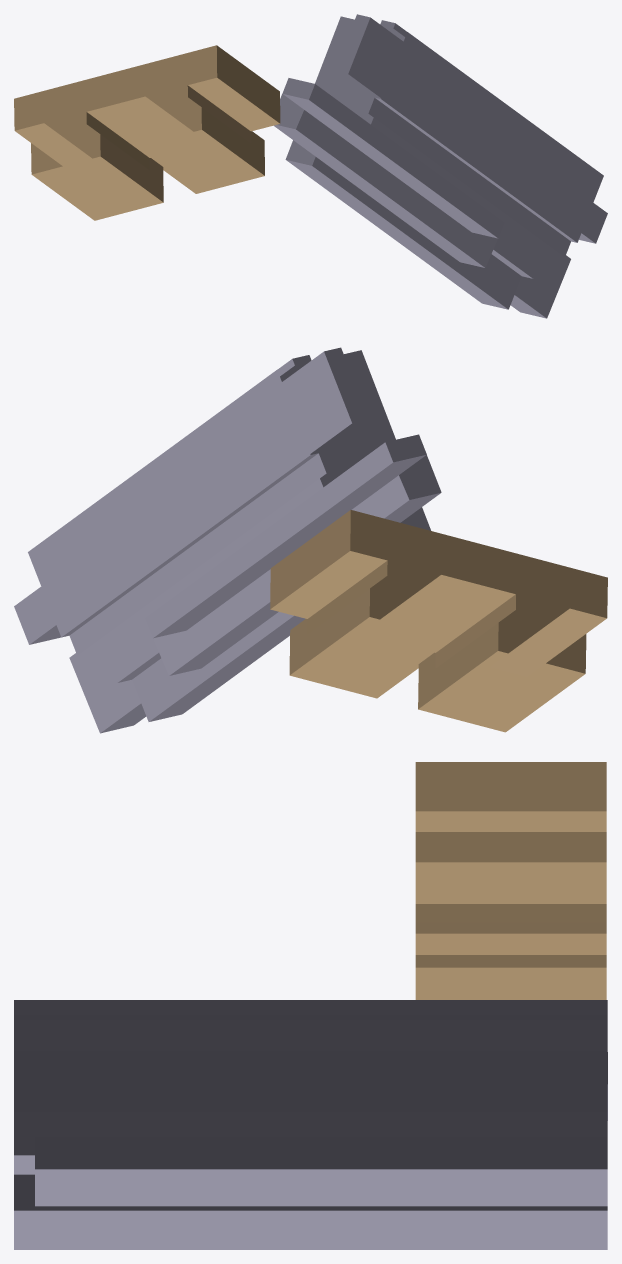
3 views of the same model, one above another, from view 1: azimuth 30°, elevation 25°; view 2: azimuth 150°, elevation 25°; view 3: azimuth 270°, elevation 25° (orthographic). The views are drawn at different scales.
Parts seen in each view (by area): view 1: 0_3_2_2_0_3_0_3; view 2: 0_3_2_2_0_3_0_3; view 3: 0_3_2_2_0_3_0_3.
Part boxes in pixels (x1,y1,x2,y2): 0_3_2_2_0_3_0_3: (14,14,607,318); 0_3_2_2_0_3_0_3: (14,347,607,733); 0_3_2_2_0_3_0_3: (14,762,607,1249).
Bounding box in the file's own units: 99.88 × 38.34 × 84.03.
